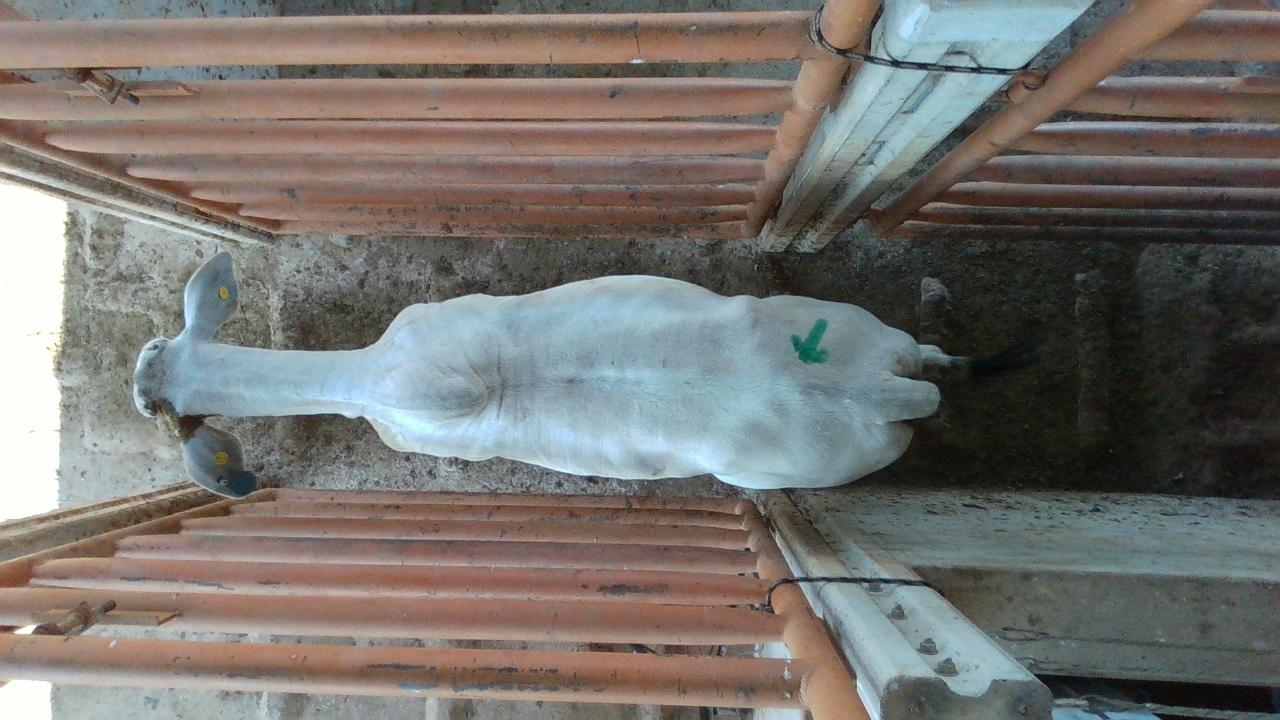cattle: (130, 250, 1042, 491)
